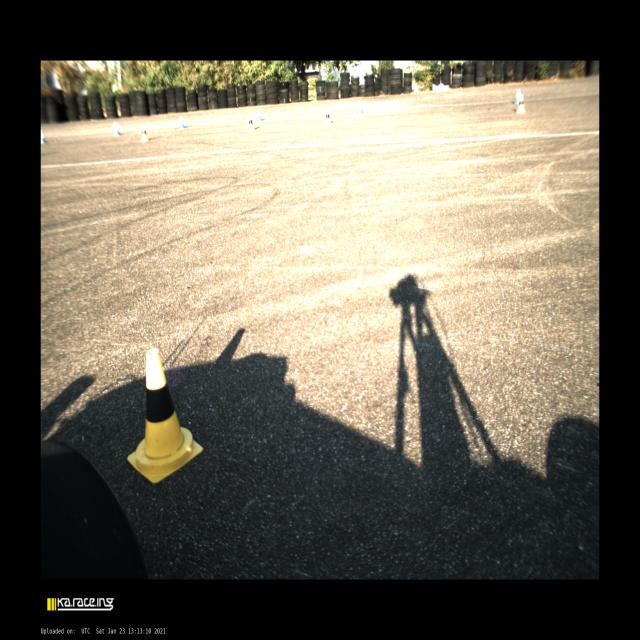blue_cone: (112, 121, 121, 136), (178, 114, 186, 129), (255, 108, 263, 121), (513, 88, 519, 104), (357, 100, 363, 114), (41, 130, 47, 144)
yellow_cone: (126, 347, 204, 484), (515, 93, 526, 114), (139, 124, 149, 142), (246, 112, 255, 131), (323, 107, 332, 125)
